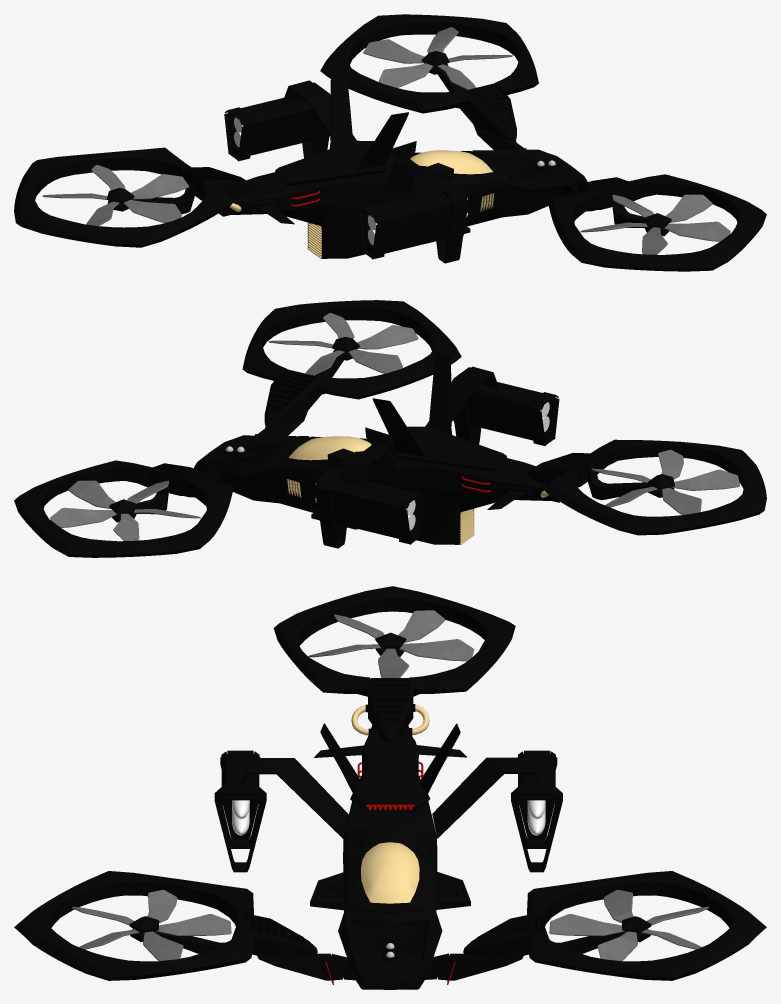
File: tricopter.glb
3 views of the same model, one above another, from view 1: azimuth 30°, elevation 25°; view 2: azimuth 150°, elevation 25°; view 3: azimuth 270°, elevation 25° (orthographic). The views are drawn at different scales.
Parts seen in each view (by area): view 1: Back1; view 2: Back1; view 3: Back1.
Part boxes in pixels (x1,y1,x2,y2): Back1: (14, 14, 766, 271); Back1: (14, 300, 766, 557); Back1: (14, 586, 766, 989).
Bounding box in the file's own units: 2.75 × 0.6535 × 2.61.
1 material, 1 textured.
